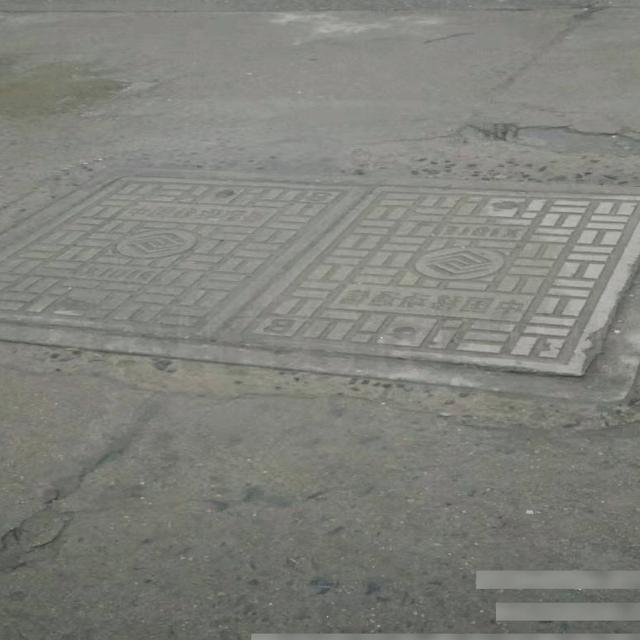good: (0, 170, 640, 401)
